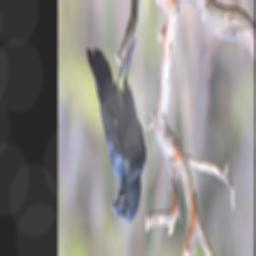Crow: (85, 40, 147, 225)
